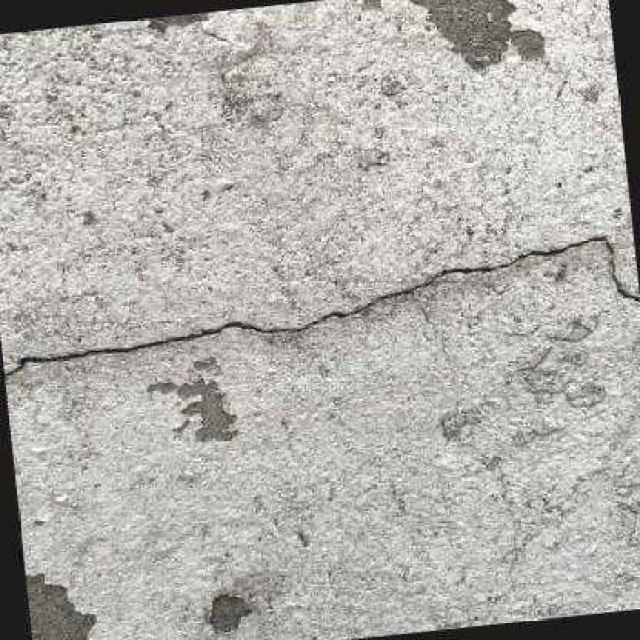D00: (4, 235, 639, 375)
